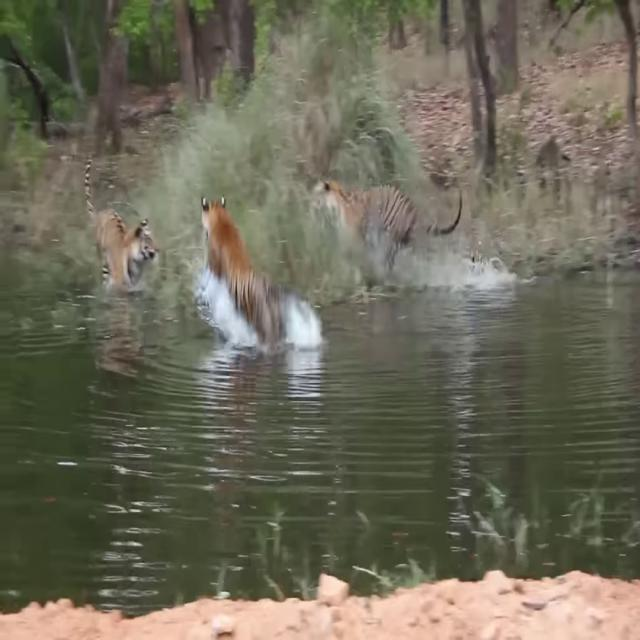tiger: (310, 179, 463, 284), (200, 193, 289, 354), (79, 153, 160, 293)
